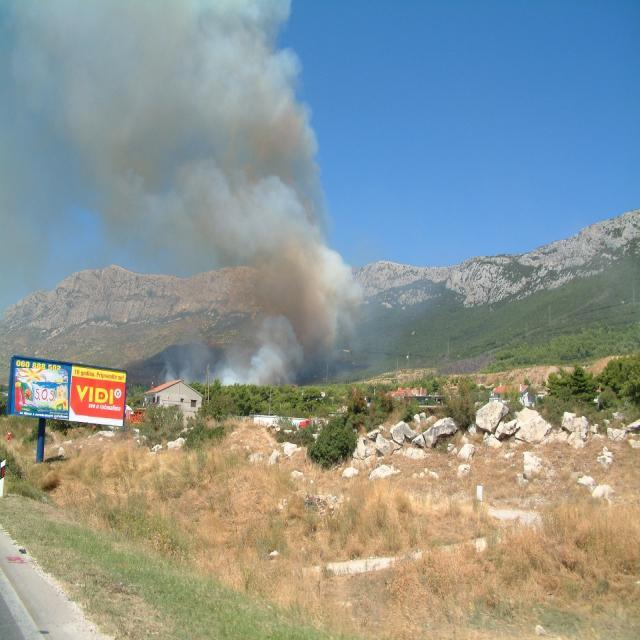Smoke: (1, 1, 364, 386)
